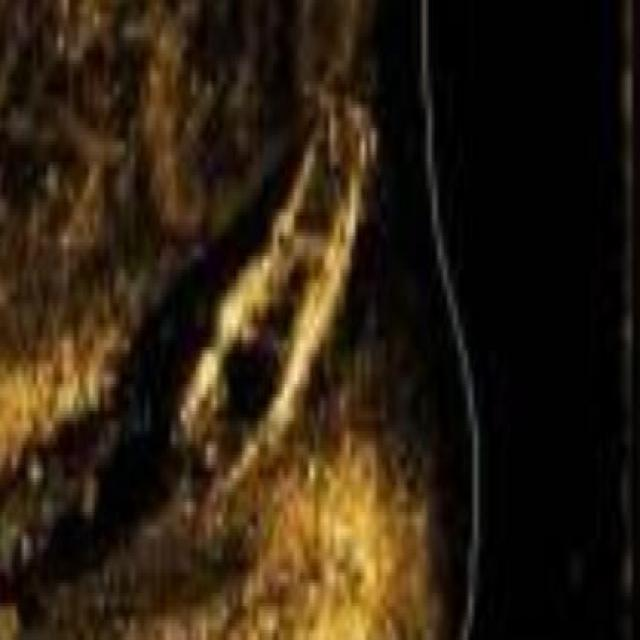shipwreck: (174, 91, 378, 519)
